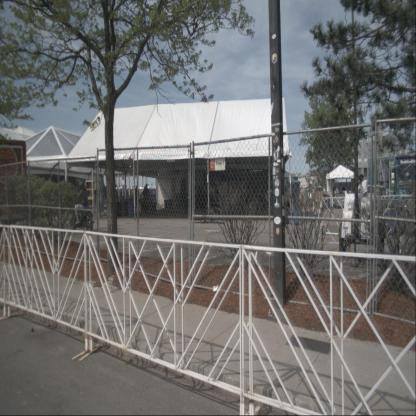vehicle-motorcycle: (70, 180, 94, 232)
vehicle-truck: (367, 155, 416, 232)
